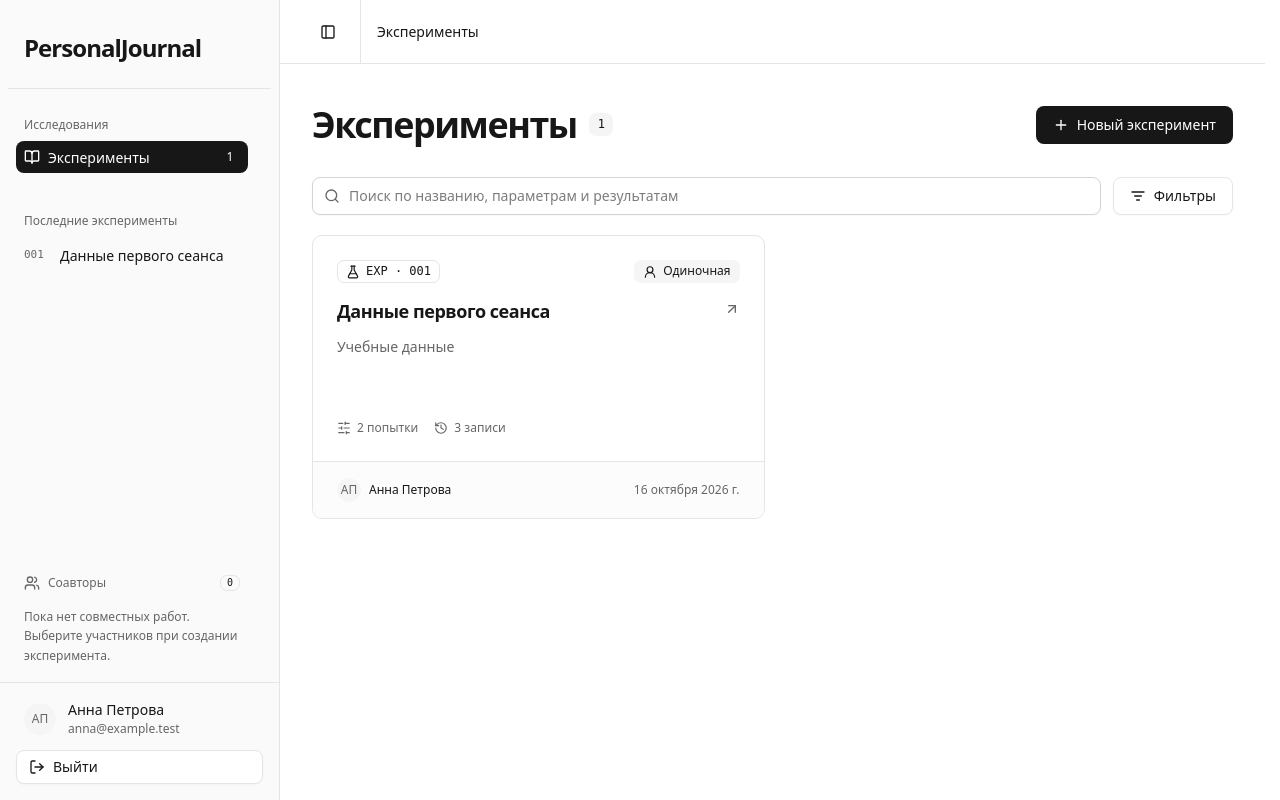
Test: Authentication boundary › keeps the authenticated journal after a logout network failure and clears its cache after a successful logout
Check: the link "Данные первого сеанса" is shown, box [312,235,764,519]
Click the button with aria-label "Выйти из учётной записи".
click(140, 767)  # box [16,750,263,784]
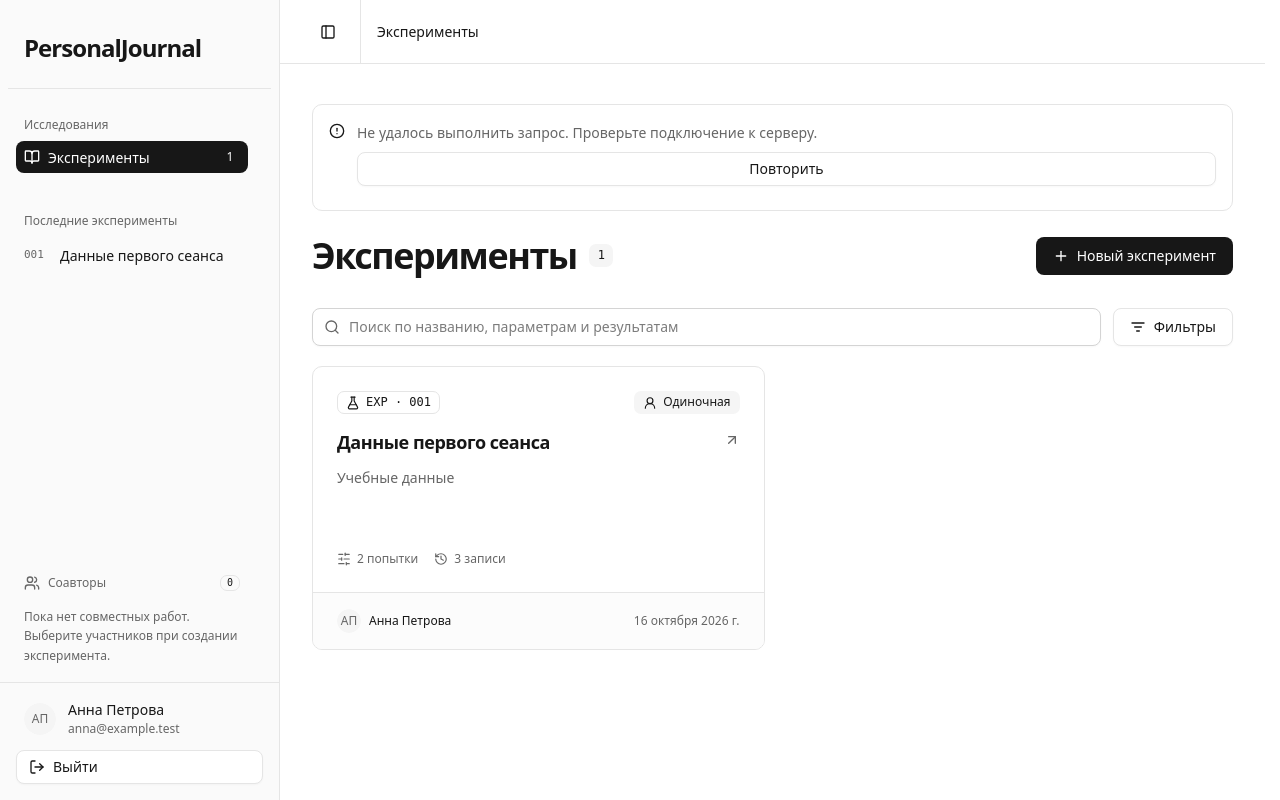
Check: the link "Данные первого сеанса" is shown, box [312,366,764,650]
Check: the message shows "Проверьте подключение", box [357,123,817,142]
Click the button with aria-label "Выйти из учётной записи".
click(140, 767)  # box [16,750,263,784]
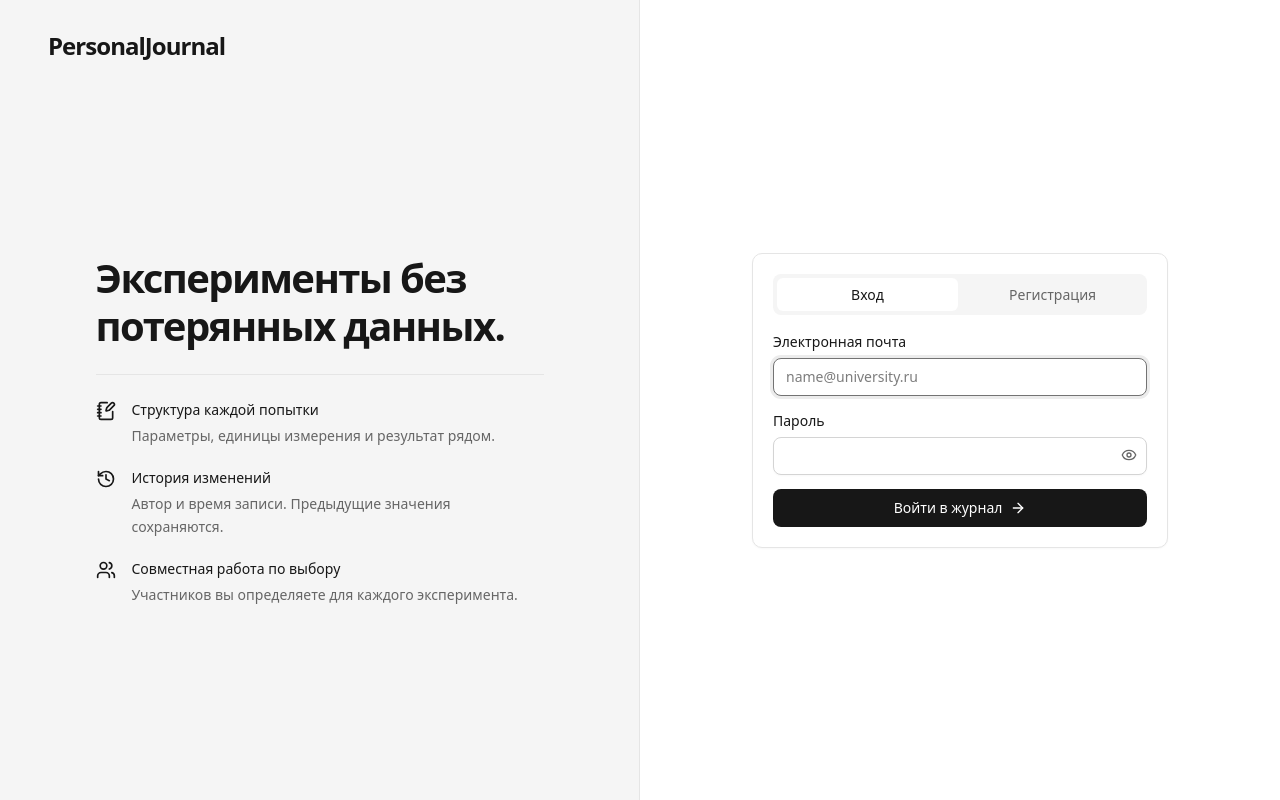
Check: the form named "Вход в журнал" is shown, box [773,330,1147,526]
Check: the button "Данные первого сеанса" is gone
Type "anna@example.test" into the field labelled "Электронная почта".
click(960, 376); type("anna@example.test")  # box [773,358,1147,396]
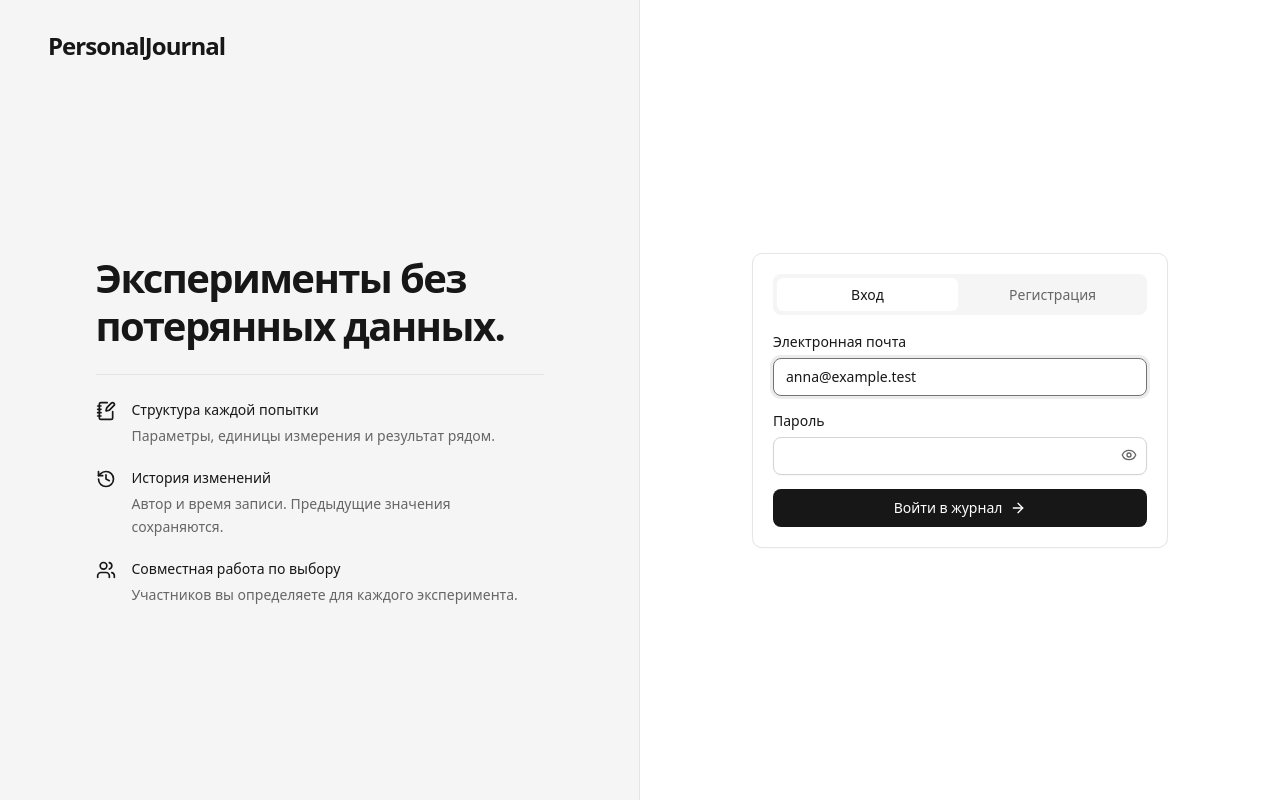
Type "  correct password  " into the password field labelled "Пароль".
click(960, 456); type("  correct password  ")  # box [773,436,1147,474]
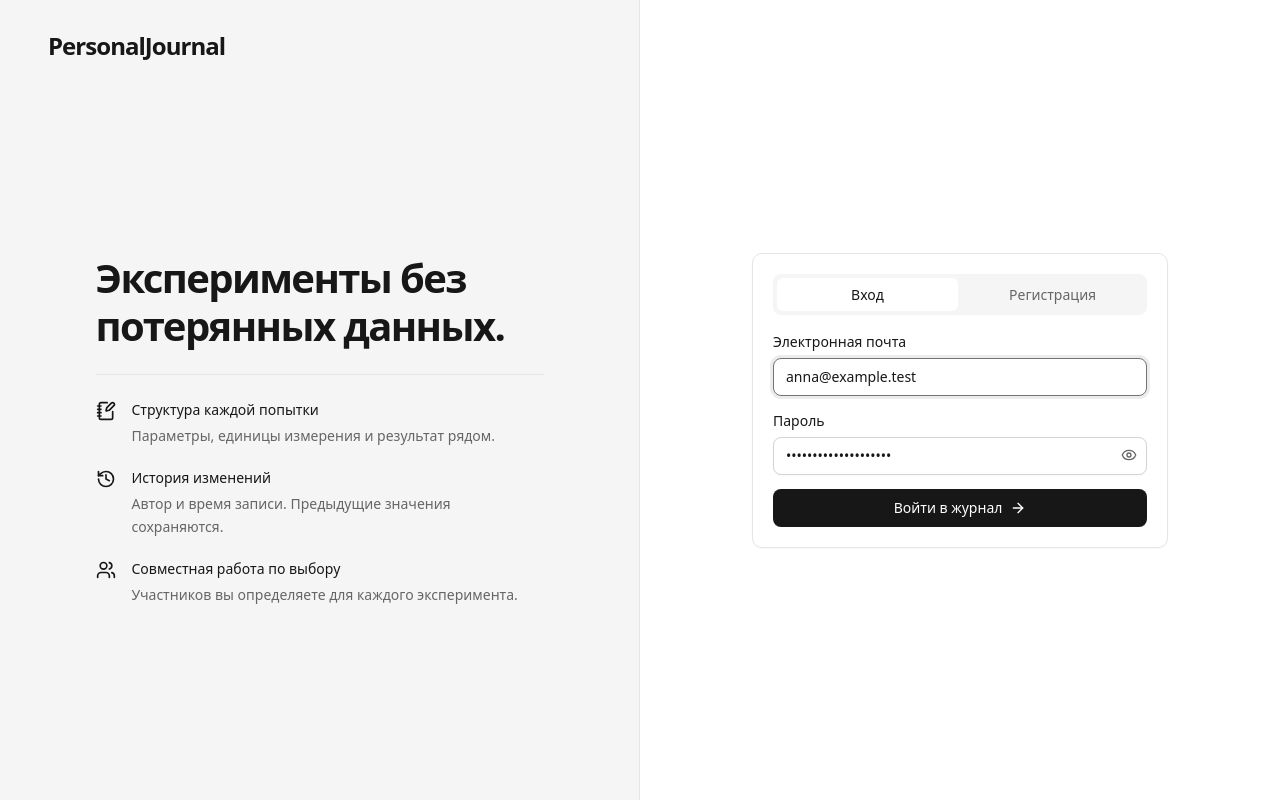
Click the button "Войти в журнал".
click(960, 508)  # box [773,488,1147,526]
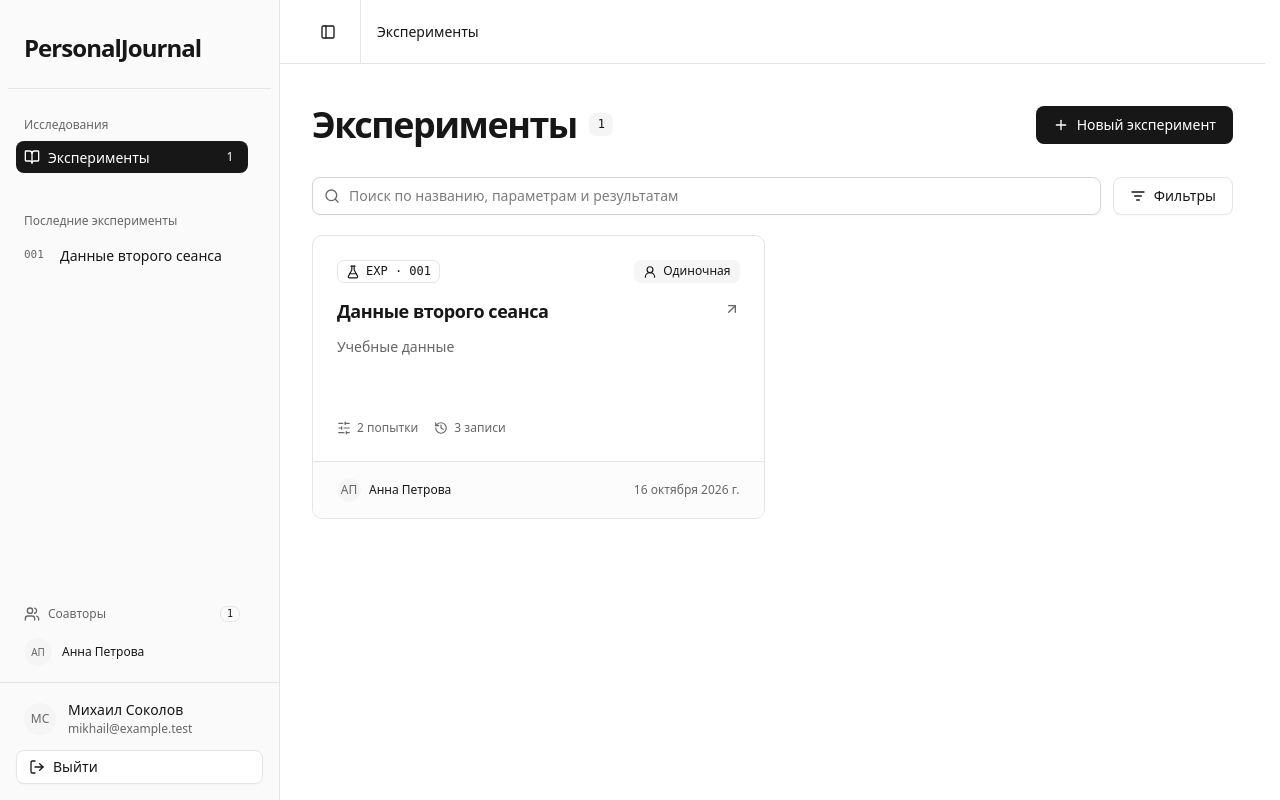
Check: the button "Данные первого сеанса" is not shown
Check: the link "Данные второго сеанса" is shown, box [312,235,764,519]
Check: the text "mikhail@example.test" is shown, box [68,720,192,737]
